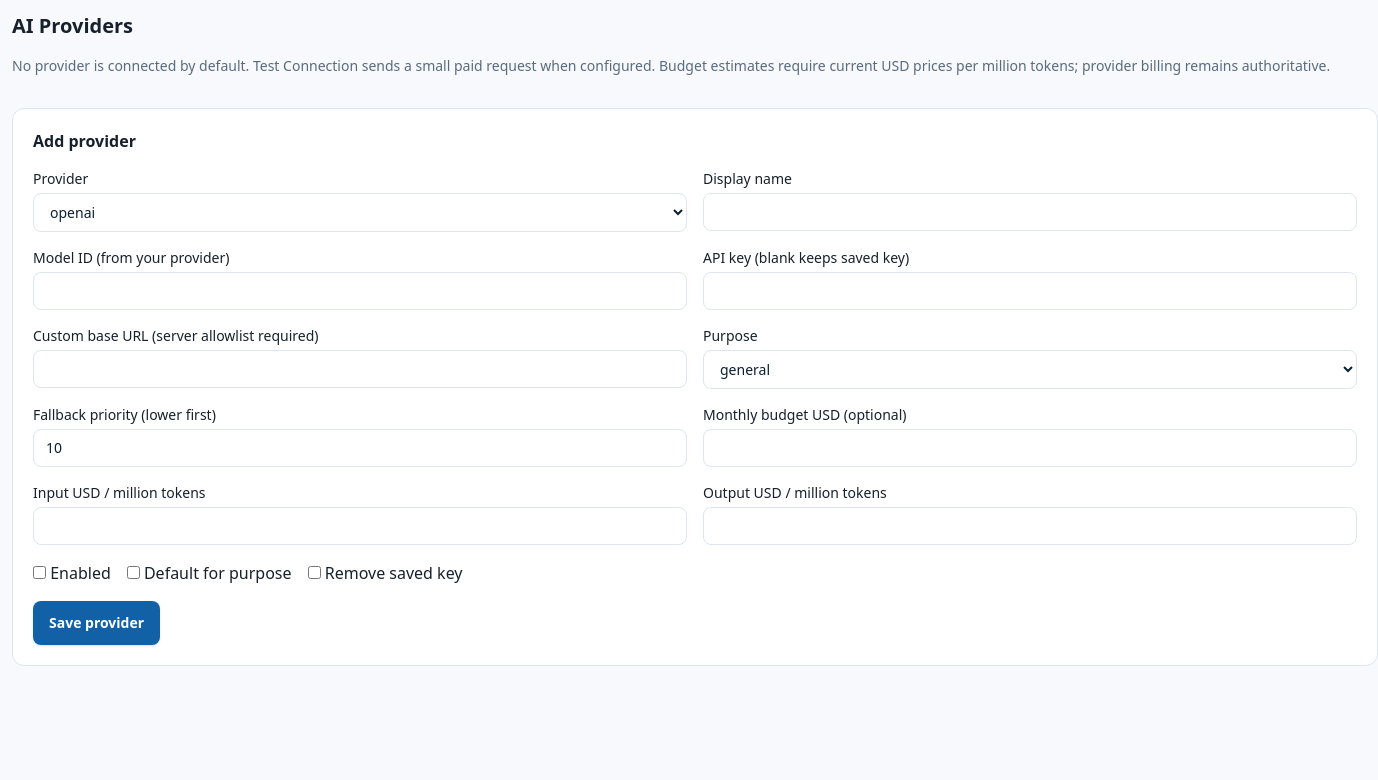
clears the typed provider key after a successful save
The width and height of the screenshot is (1378, 780).
Type "Provider" into the field labelled "Display name" at (1030, 212), box [703, 193, 1357, 231]
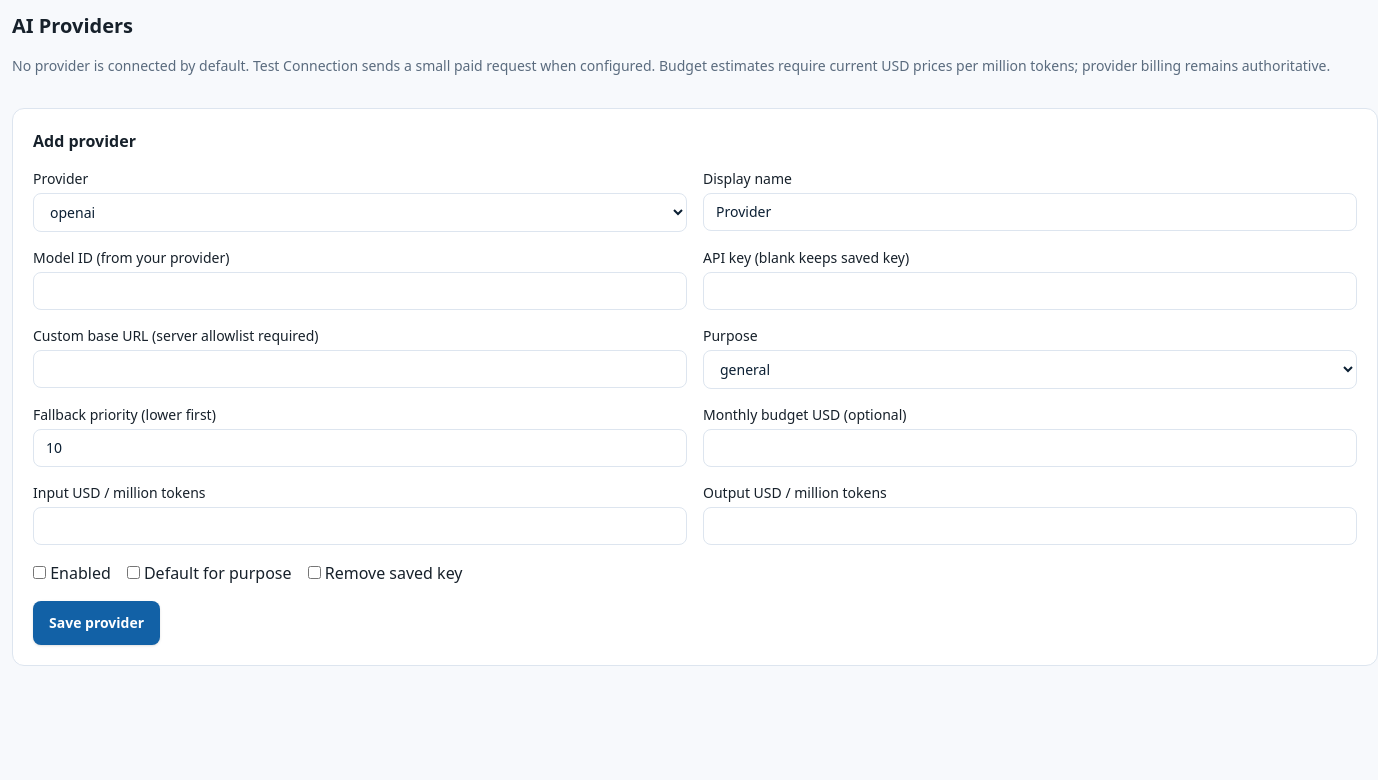
Type "test" into the field labelled "Model ID (from your provider)" at (360, 291), box [33, 272, 687, 310]
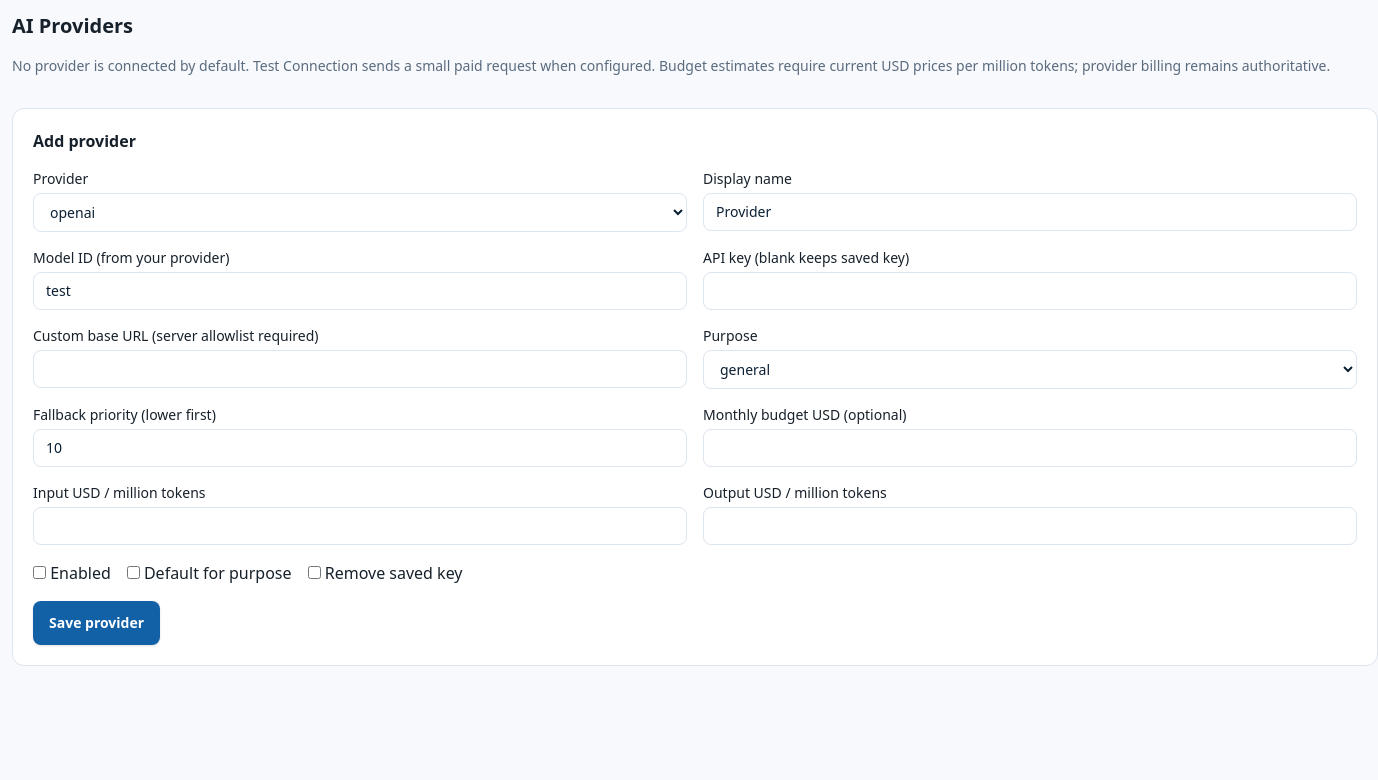
Type "test-secret" into the password field labelled "API key (blank keeps saved key)" at (1030, 291), box [703, 272, 1357, 310]
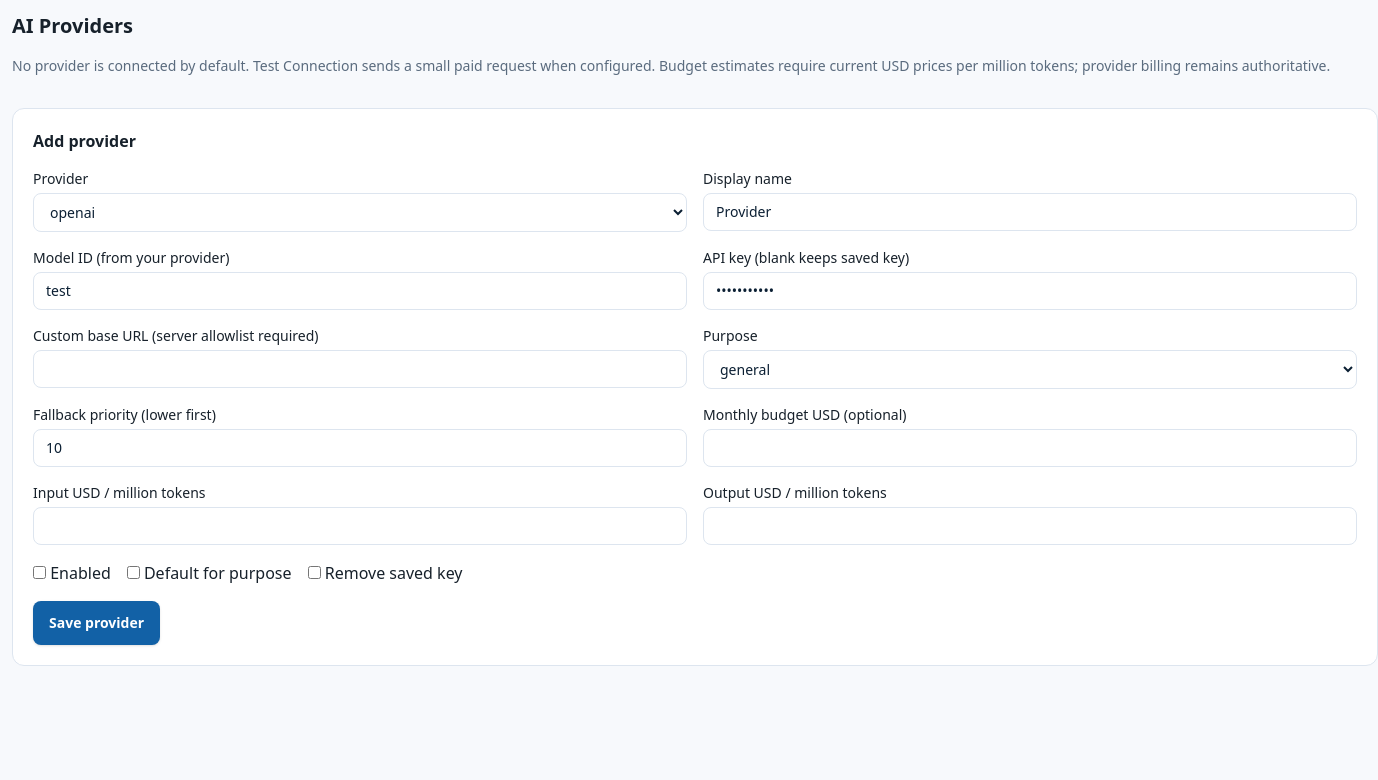
Click the button "Save provider" at (97, 623), box [33, 601, 160, 645]
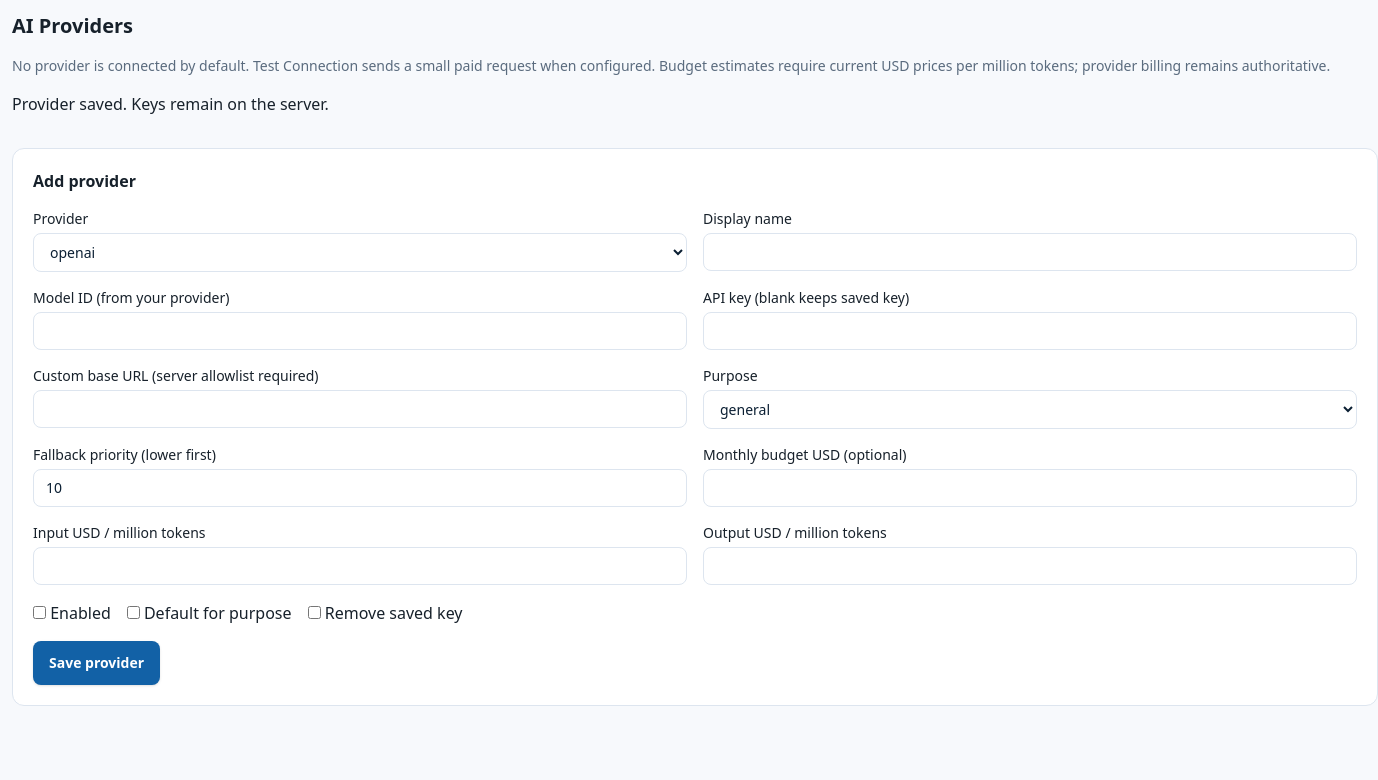
Expected: the text "Provider saved. Keys remain on the server." is shown, [12, 93, 329, 115]
Expected: the password field labelled "API key (blank keeps saved key)" is empty, [703, 312, 1357, 350]
